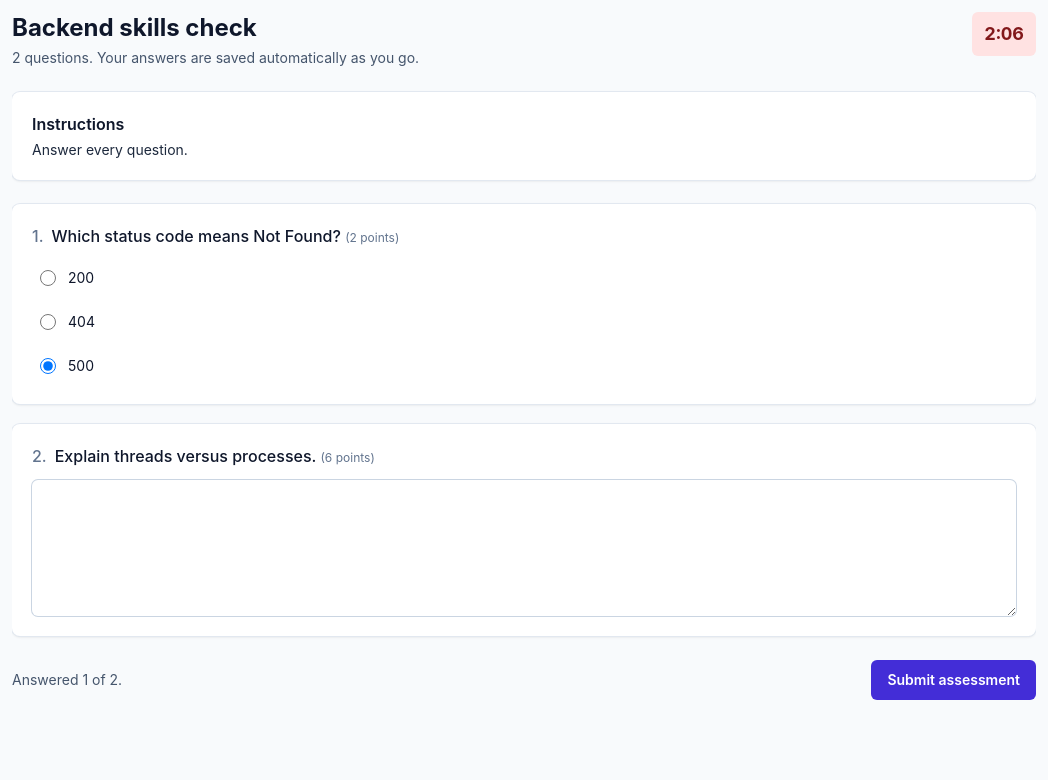
Scenario: TakeAssessment › restores saved answers and warns when saving fails
Expected: the radio button labelled "500" is checked, [40,358,56,374]
Click the radio button labelled "200". click: (48, 278)
box: [40,270,56,286]
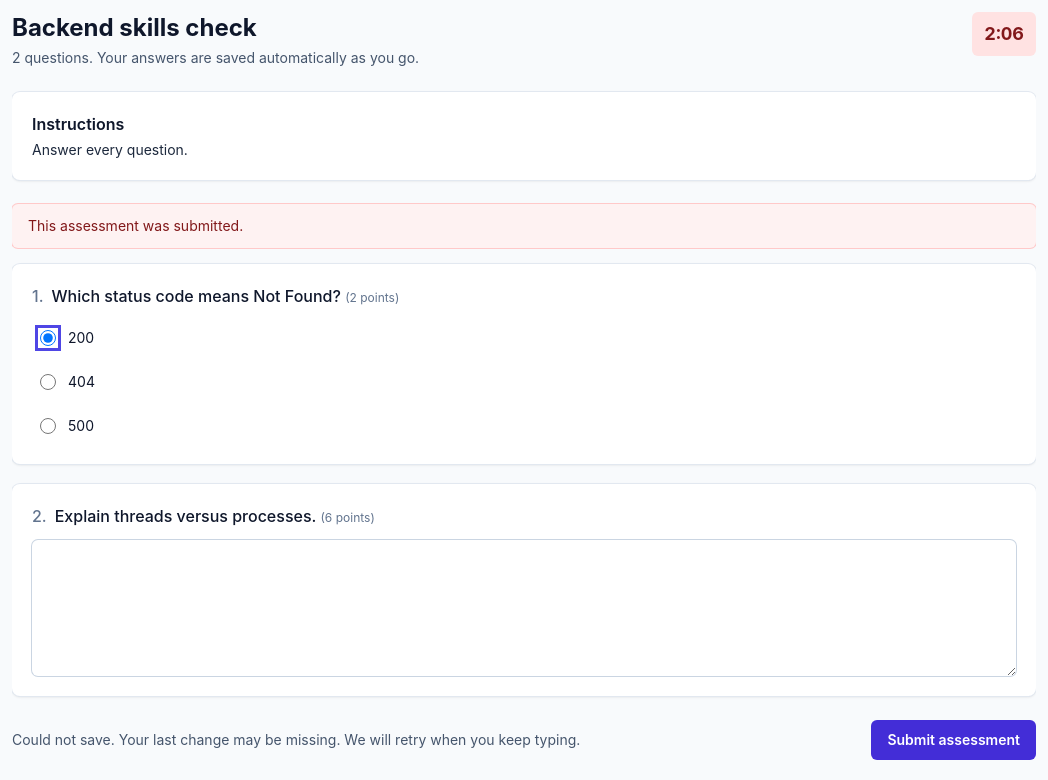
Result: the message "This assessment was submitted." is shown at [12,204,1036,248]
